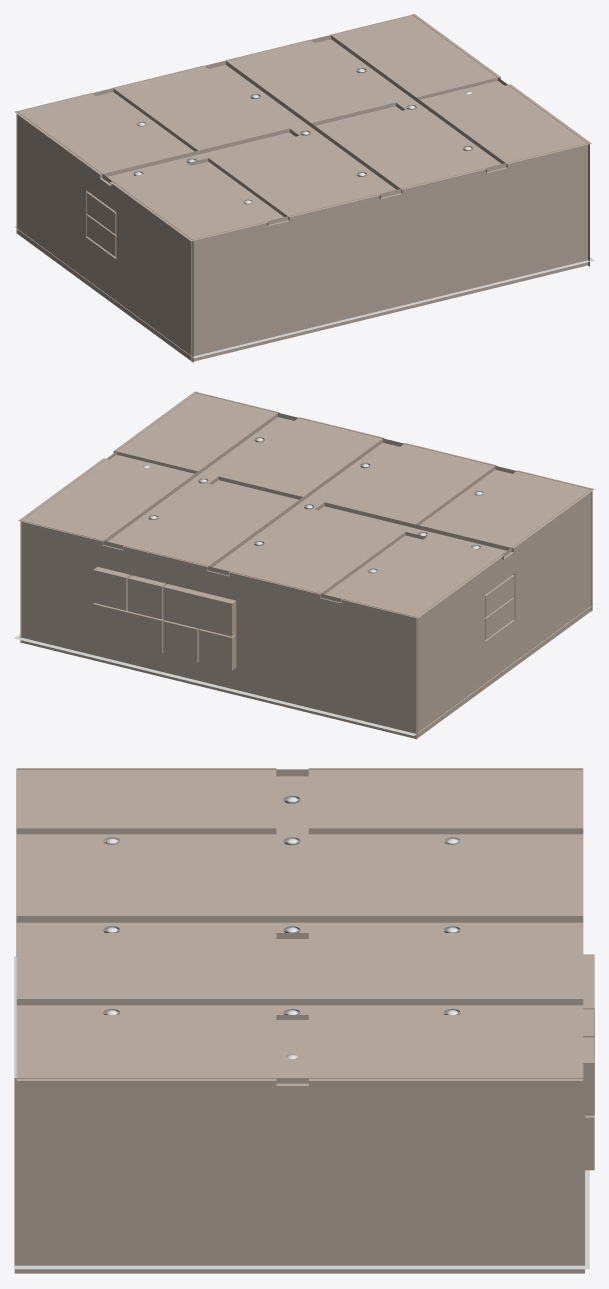
Rendered from room_2.fbx.
3 renders of one model, top to bottom at view 1: azimuth 30°, elevation 25°; view 2: azimuth 150°, elevation 25°; view 3: azimuth 270°, elevation 25°, orthographic. The views are drawn at different scales.
Parts seen in each view (by area): view 1: Cube.004, Cube.005, Cube.002, Cube, Cube.001; view 2: Cube.004, Cube.001, Cube.002, Cube, Cube.005; view 3: Cube.004, Cube.003, Cube, Cube.001, Cube.002.
Boxes of the visible parts, left/top/right/bottom form: Cube.004: left=14, top=14, right=591, bottom=241; Cube.005: left=191, top=143, right=588, bottom=361; Cube.002: left=17, top=112, right=193, bottom=362; Cube: left=14, top=226, right=594, bottom=358; Cube.001: left=16, top=14, right=413, bottom=233; Cube.004: left=18, top=391, right=594, bottom=618; Cube.001: left=20, top=520, right=417, bottom=738; Cube.002: left=416, top=488, right=592, bottom=739; Cube: left=14, top=604, right=593, bottom=735; Cube.005: left=195, top=392, right=592, bottom=611; Cube.004: left=16, top=768, right=583, bottom=1085; Cube.003: left=14, top=1078, right=584, bottom=1273; Cube: left=14, top=956, right=589, bottom=1269; Cube.001: left=583, top=954, right=594, bottom=1170; Cube.002: left=16, top=769, right=582, bottom=956.
Size of the model in its own units: 1093 by 317 by 853.
